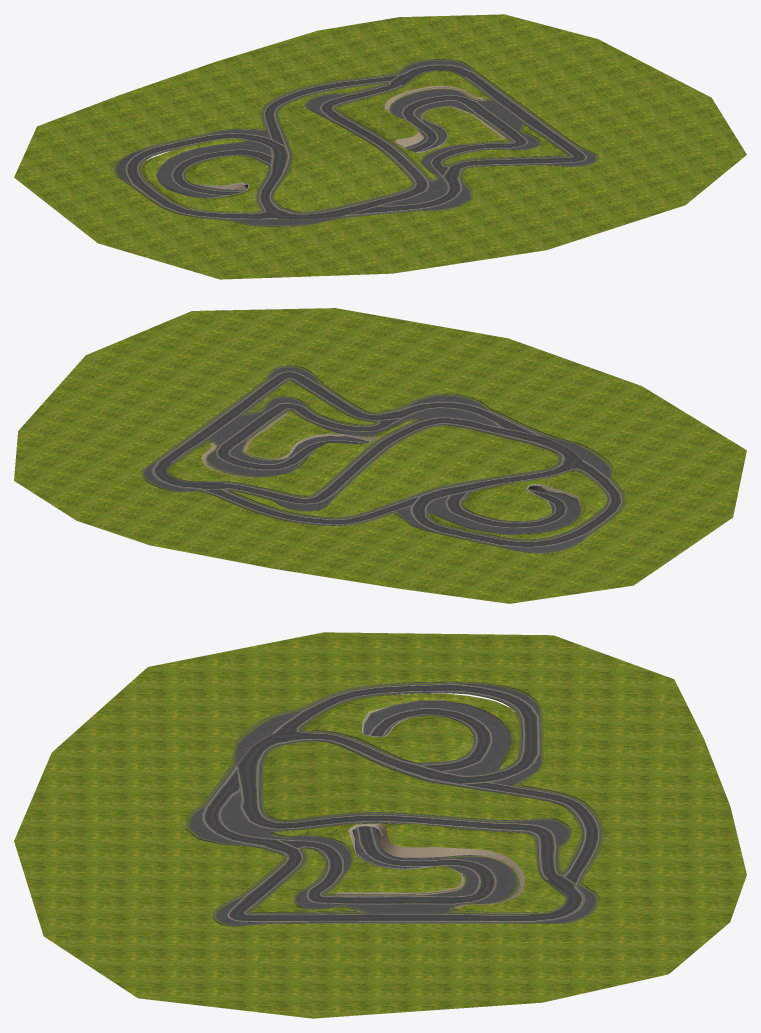
Rendered from Hills_track.fbx.
The picture shows the model from 3 angles, top to bottom: view 1: azimuth 30°, elevation 25°; view 2: azimuth 150°, elevation 25°; view 3: azimuth 270°, elevation 25°; orthographic projection. The views are drawn at different scales.
Parts seen in each view (by area): view 1: polySurface70, polySurface83, polySurface80, polySurface96, border; view 2: polySurface70, polySurface83, polySurface80, polySurface96, border; view 3: polySurface70, polySurface83, polySurface80, polySurface96, border.
Part boxes in pixels (bbox=[...]): polySurface70: bbox=[14, 14, 746, 279]; polySurface83: bbox=[125, 64, 586, 219]; polySurface80: bbox=[116, 61, 594, 224]; polySurface96: bbox=[114, 59, 598, 226]; border: bbox=[114, 59, 598, 226]; polySurface70: bbox=[14, 308, 746, 603]; polySurface83: bbox=[152, 371, 622, 547]; polySurface80: bbox=[145, 367, 609, 551]; polySurface96: bbox=[142, 366, 625, 552]; border: bbox=[142, 365, 626, 553]; polySurface70: bbox=[14, 632, 746, 1018]; polySurface83: bbox=[202, 684, 599, 922]; polySurface80: bbox=[190, 684, 595, 924]; polySurface96: bbox=[185, 682, 603, 925]; border: bbox=[185, 681, 603, 926].
Bounding box in the file's own units: 96.2 × 2.37 × 77.15.
Materials: 7 (5 with a texture image).
